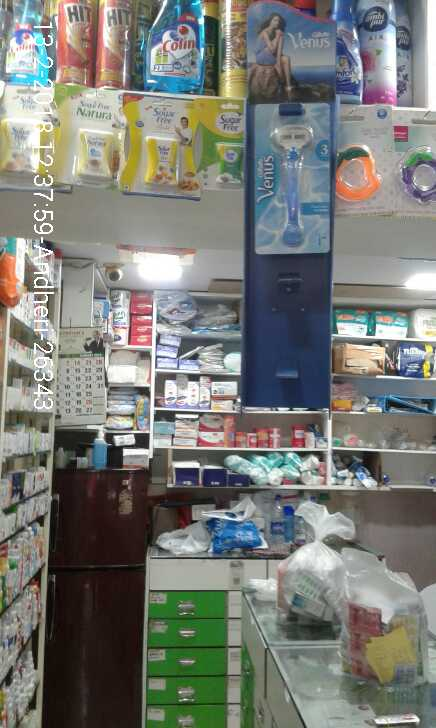beauty: (254, 103, 339, 257)
home: (361, 1, 394, 97)
